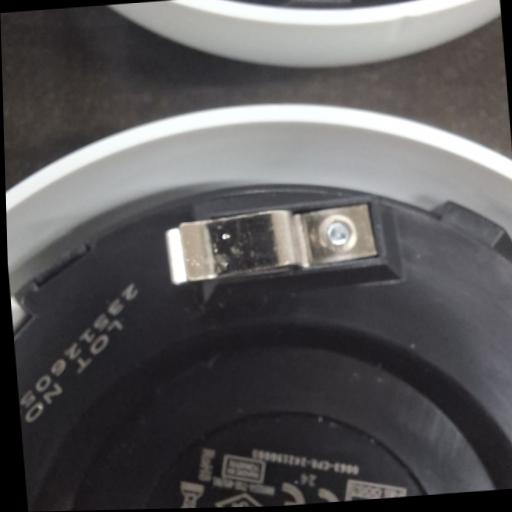yayli: (164, 197, 382, 286)
